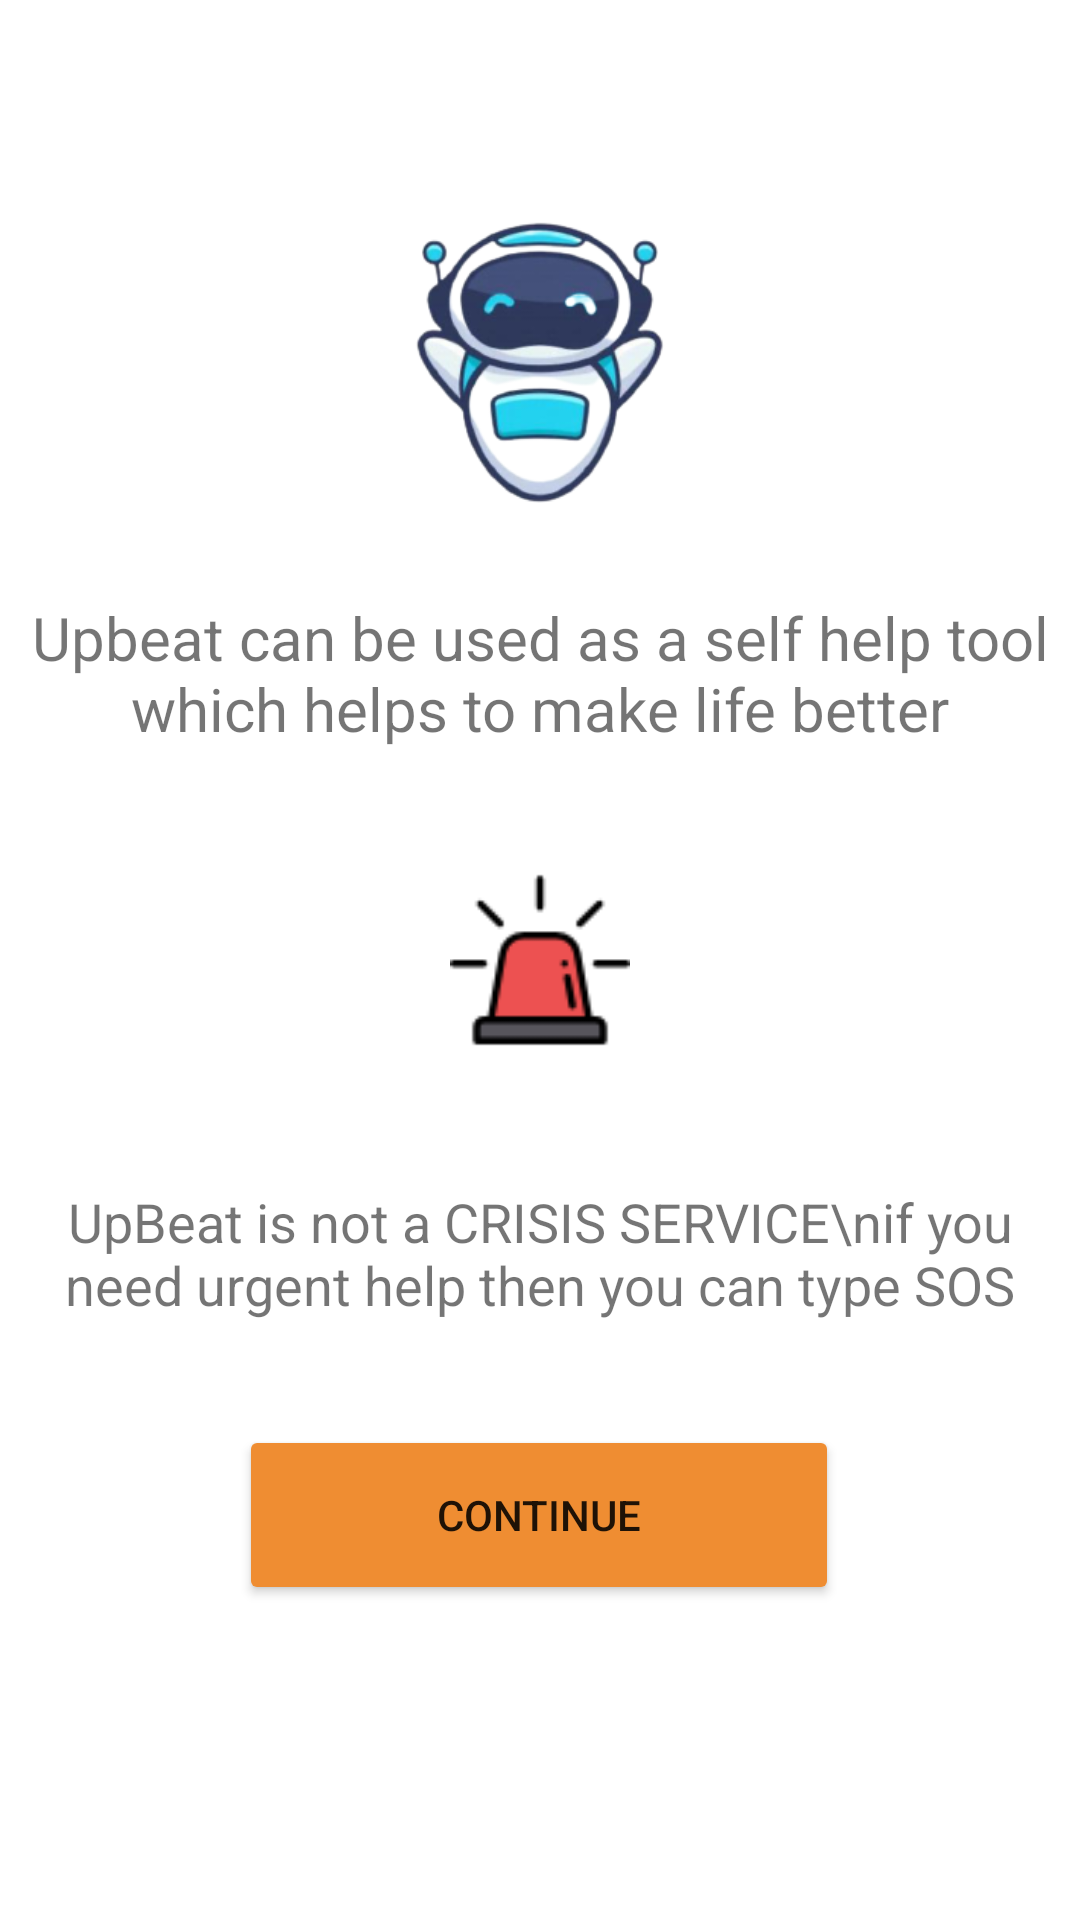

Locate icon controls on the screen. Image size 1080 × 1920, boxes as (x1, y1, x2, y2).
siren: (450, 875, 630, 1046)
